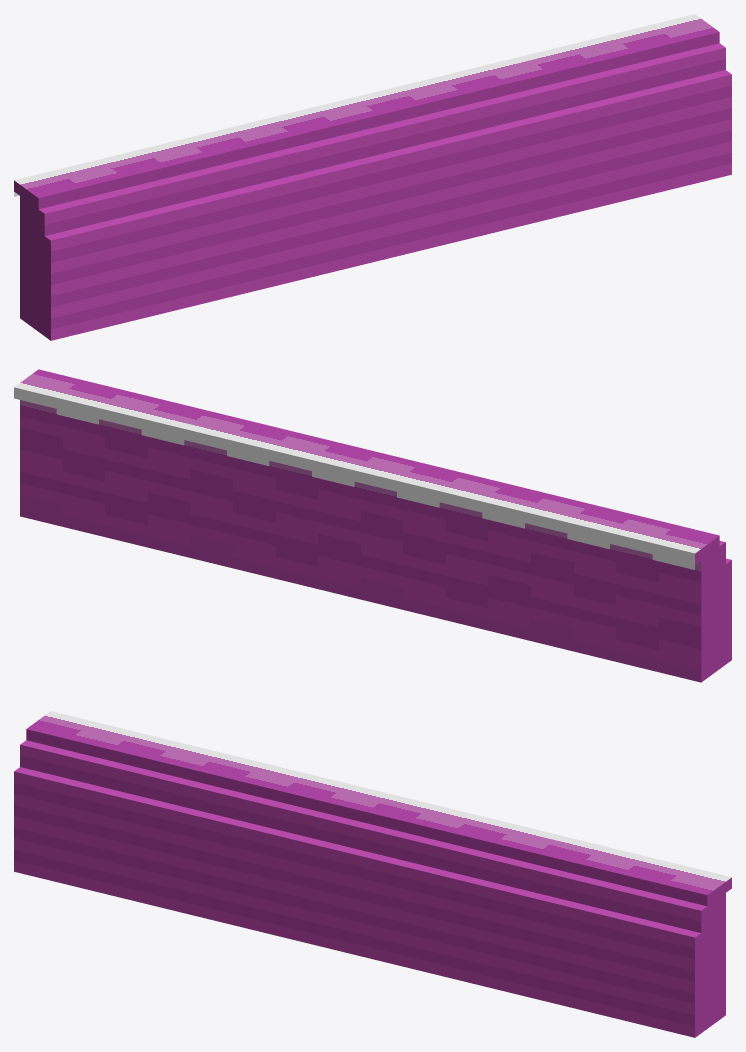
File: wave_magenta.glb
3 views of the same model, one above another, from view 1: azimuth 30°, elevation 25°; view 2: azimuth 150°, elevation 25°; view 3: azimuth 330°, elevation 25° (orthographic).
Visible parts, largest first — view 1: cube; view 2: cube; view 3: cube.
Part boxes in pixels (x1,y1,x2,y2): cube: (14, 14, 731, 340); cube: (14, 369, 731, 682); cube: (14, 711, 731, 1037).
Size of the model in its own units: 64 by 12 by 6.
1 material, 1 textured.
